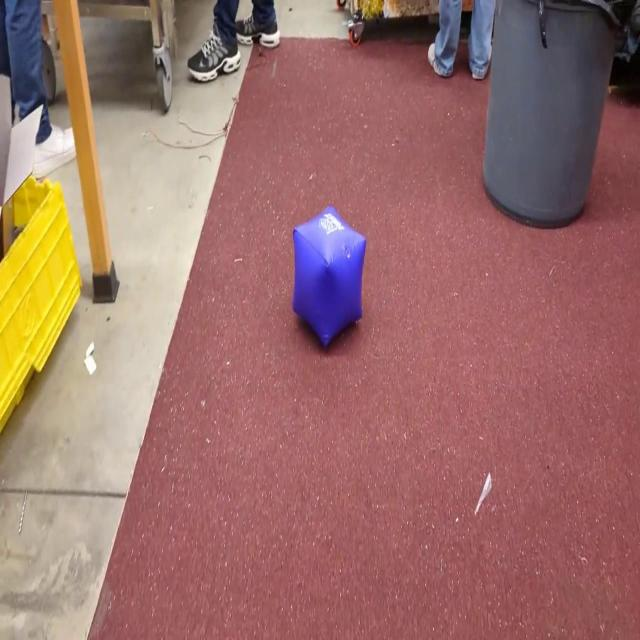frc_cube: (291, 202, 366, 350)
